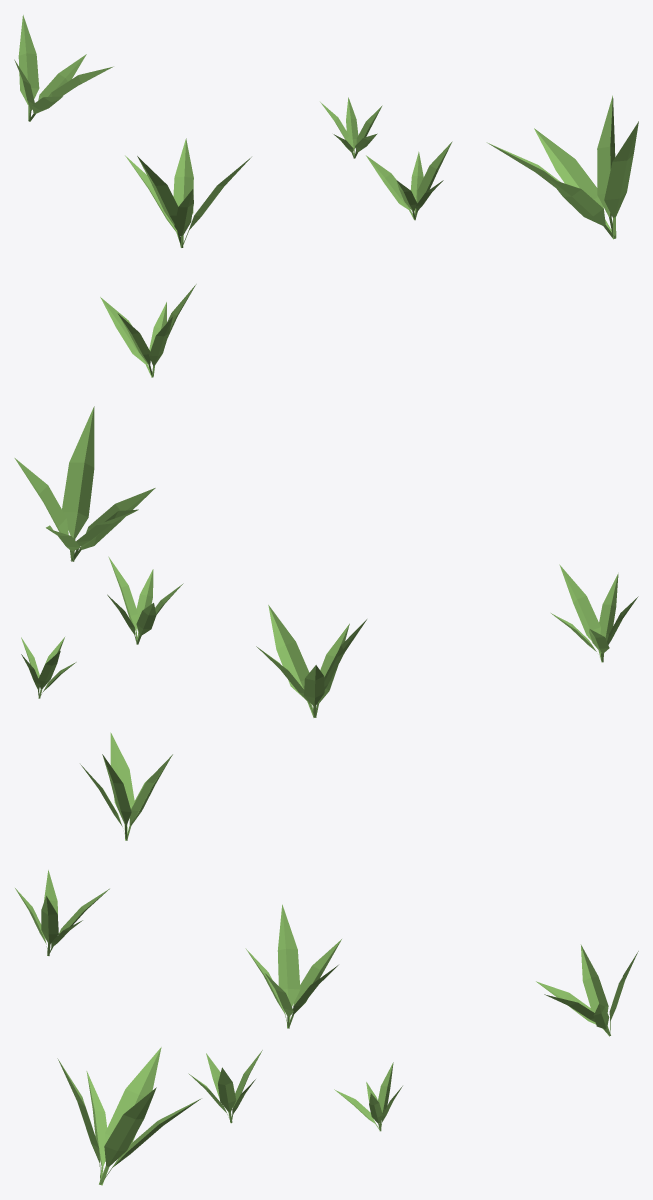
Rendered from Grass03.fbx.
3 renders of one model, top to bottom at view 1: azimuth 30°, elevation 25°; view 2: azimuth 150°, elevation 25°; view 3: azimuth 270°, elevation 25°, orthographic. The views are drawn at different scales.
Visible parts, largest first — view 1: Circle.557; view 2: Circle.557; view 3: Circle.557.
Boxes of the visible parts, left/top/right/bottom form: Circle.557: left=14, top=15, right=638, bottom=377; Circle.557: left=14, top=406, right=638, bottom=840; Circle.557: left=15, top=870, right=638, bottom=1185.
Size of the model in its own units: 89.72 by 20.91 by 91.9.
